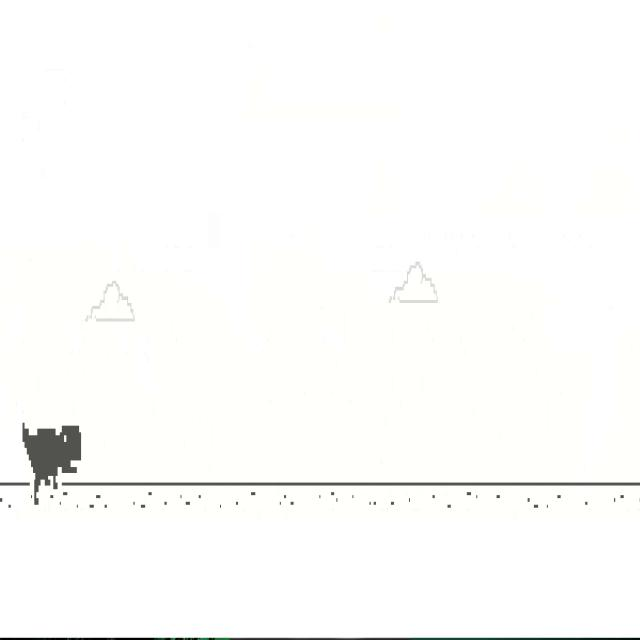dino: (22, 420, 82, 506)
